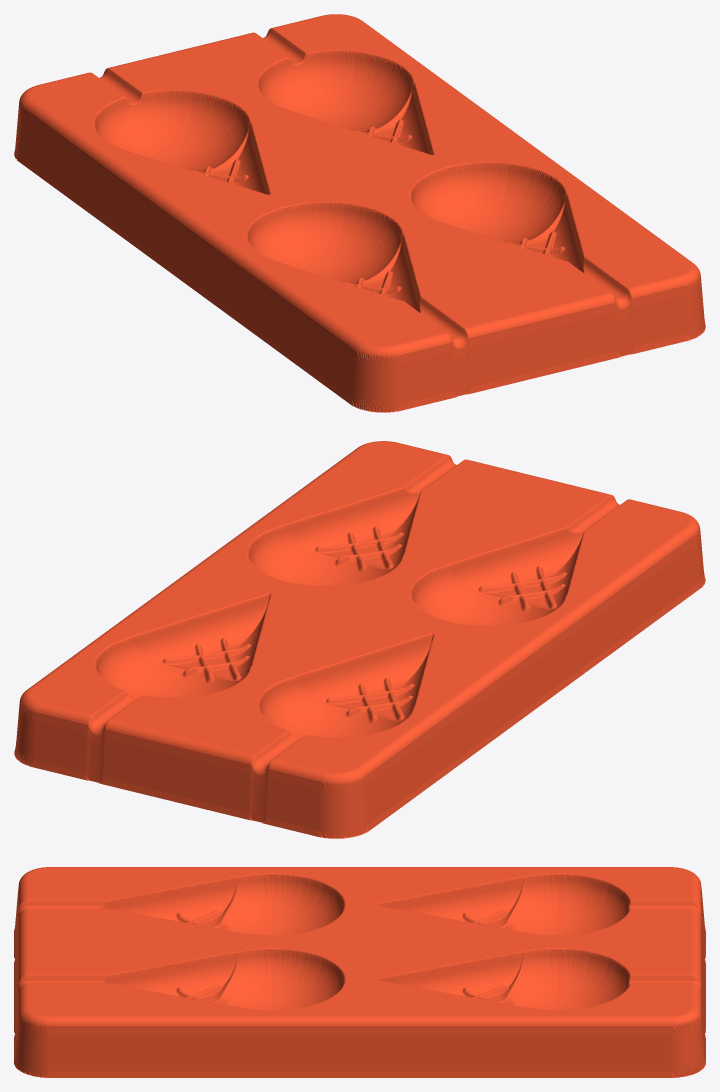
Rendered from mold.glb.
3 renders of one model, top to bottom at view 1: azimuth 30°, elevation 25°; view 2: azimuth 150°, elevation 25°; view 3: azimuth 270°, elevation 25°, orthographic. The views are drawn at different scales.
Parts seen in each view (by area): view 1: geometry_0; view 2: geometry_0; view 3: geometry_0.
Part boxes in pixels (x1,y1,x2,y2): geometry_0: (14, 14, 705, 412); geometry_0: (14, 441, 705, 838); geometry_0: (14, 867, 705, 1077).
Size of the model in its own units: 0.095 by 0.0155 by 0.1735.
